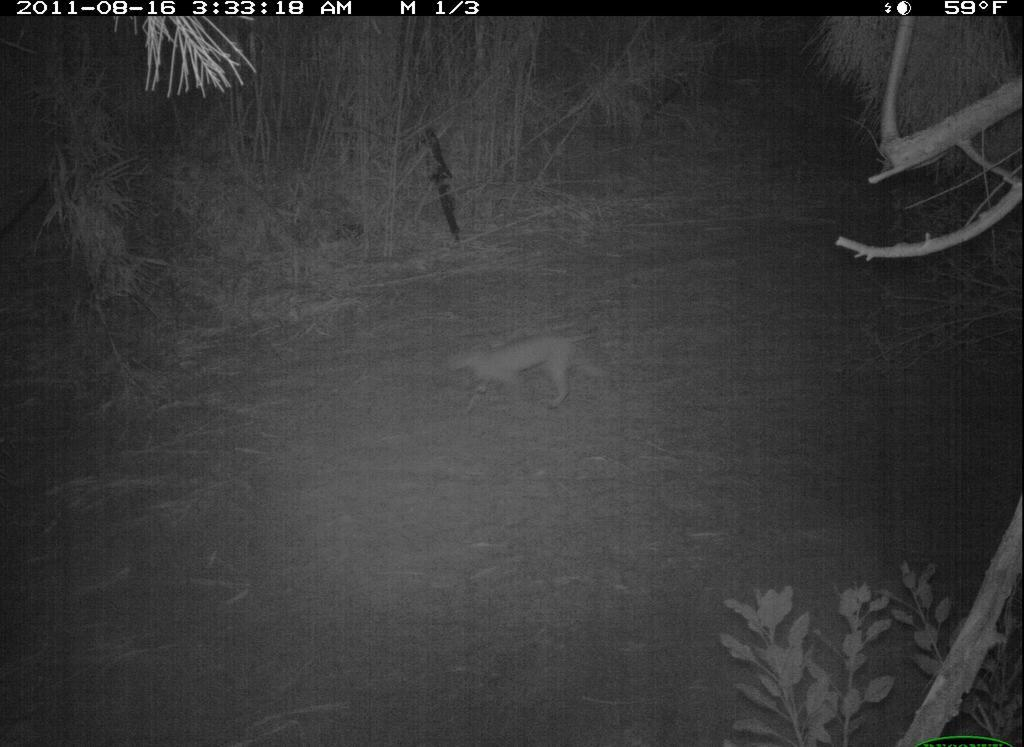bobcat: (442, 323, 619, 423)
